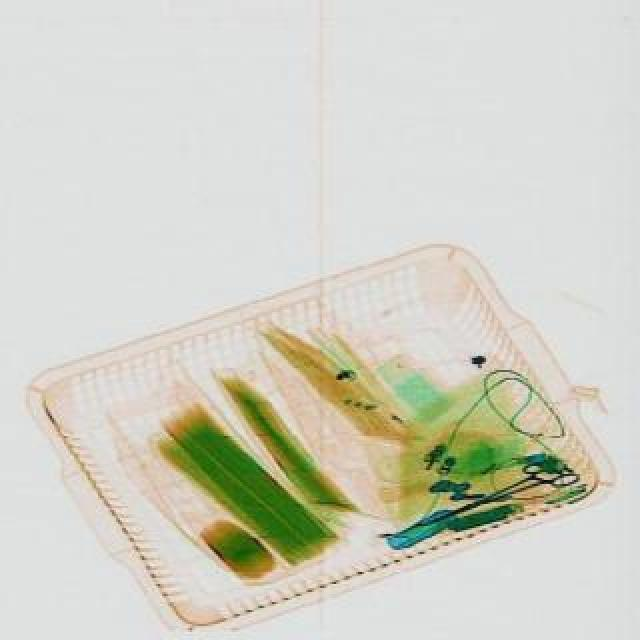pliers: (412, 446, 586, 542)
